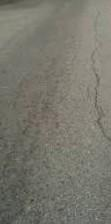crack: (88, 3, 111, 143)
